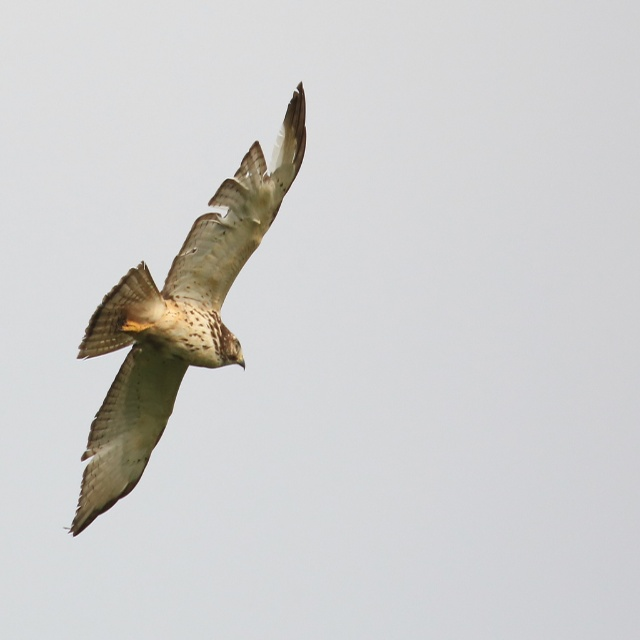Eagle: (58, 77, 310, 537)
